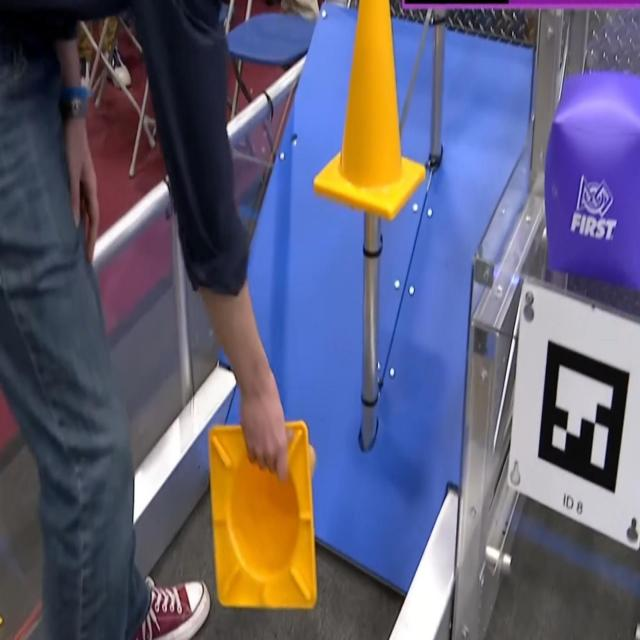frc_cone: (314, 0, 425, 222), (208, 415, 320, 618)
frc_cube: (545, 65, 640, 290)
